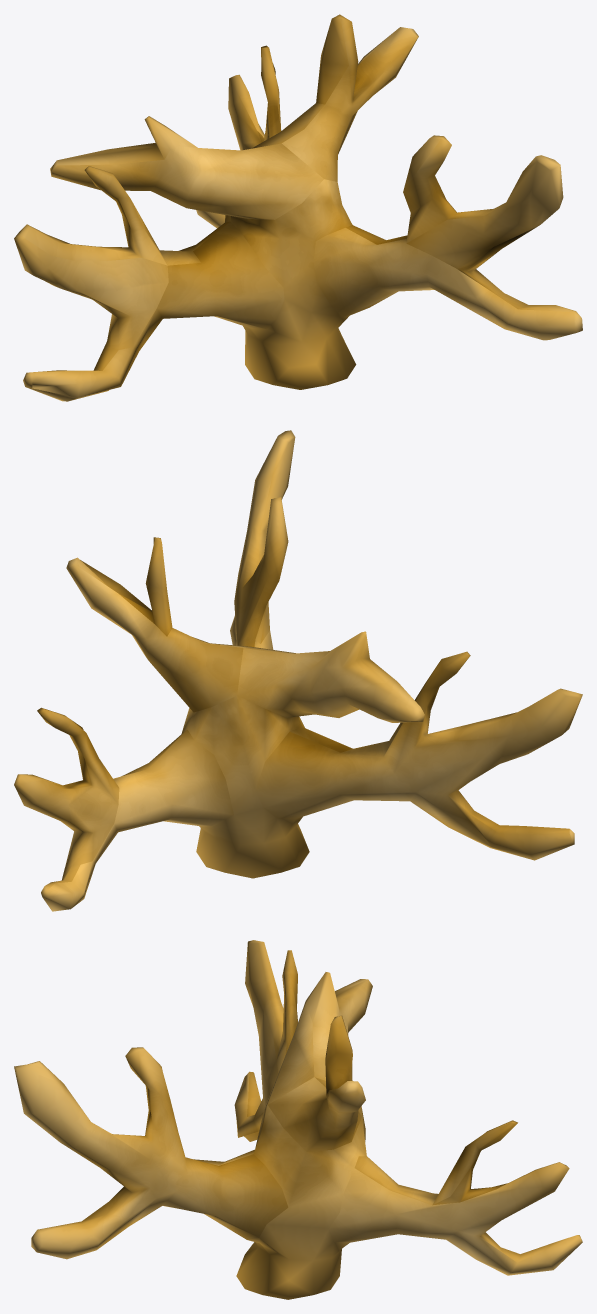
File: Coral.glb
3 renders of one model, top to bottom at view 1: azimuth 30°, elevation 25°; view 2: azimuth 150°, elevation 25°; view 3: azimuth 270°, elevation 25°, orthographic. The views are drawn at different scales.
Visible parts, largest first — view 1: Cylinder; view 2: Cylinder; view 3: Cylinder.
Boxes of the visible parts, left/top/right/bottom form: Cylinder: left=14, top=14, right=582, bottom=401; Cylinder: left=14, top=430, right=582, bottom=911; Cylinder: left=14, top=940, right=582, bottom=1299.
Size of the model in its own units: 9.38 by 6.27 by 10.99.
1 material, 1 textured.
